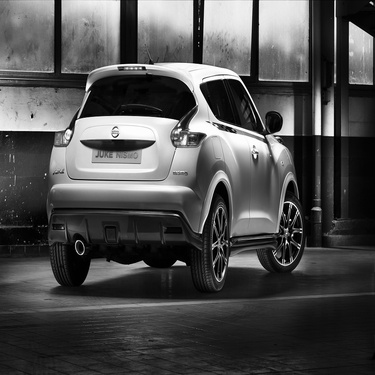car: (30, 53, 313, 293)
